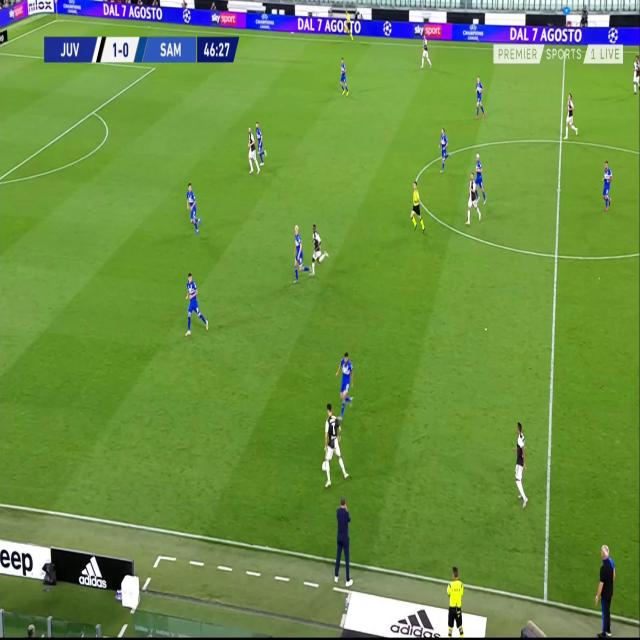ball: (320, 461, 326, 472)
player: (593, 540, 618, 637), (321, 402, 348, 488), (332, 492, 354, 586), (511, 417, 530, 507), (184, 270, 208, 337), (445, 561, 465, 637), (334, 348, 354, 421), (292, 222, 312, 283), (308, 221, 329, 275), (410, 177, 425, 233), (465, 171, 480, 225), (186, 180, 200, 235), (563, 91, 578, 139), (600, 158, 613, 212), (474, 151, 486, 206), (246, 128, 260, 175), (254, 120, 267, 169), (438, 126, 451, 173), (474, 74, 486, 120), (338, 55, 350, 97), (419, 31, 432, 69), (630, 51, 639, 96), (343, 8, 354, 40)
